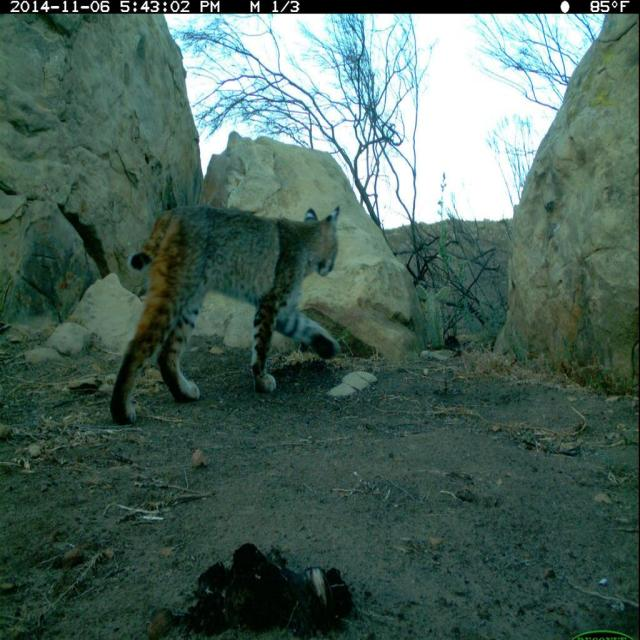bobcat: (117, 179, 361, 439)
